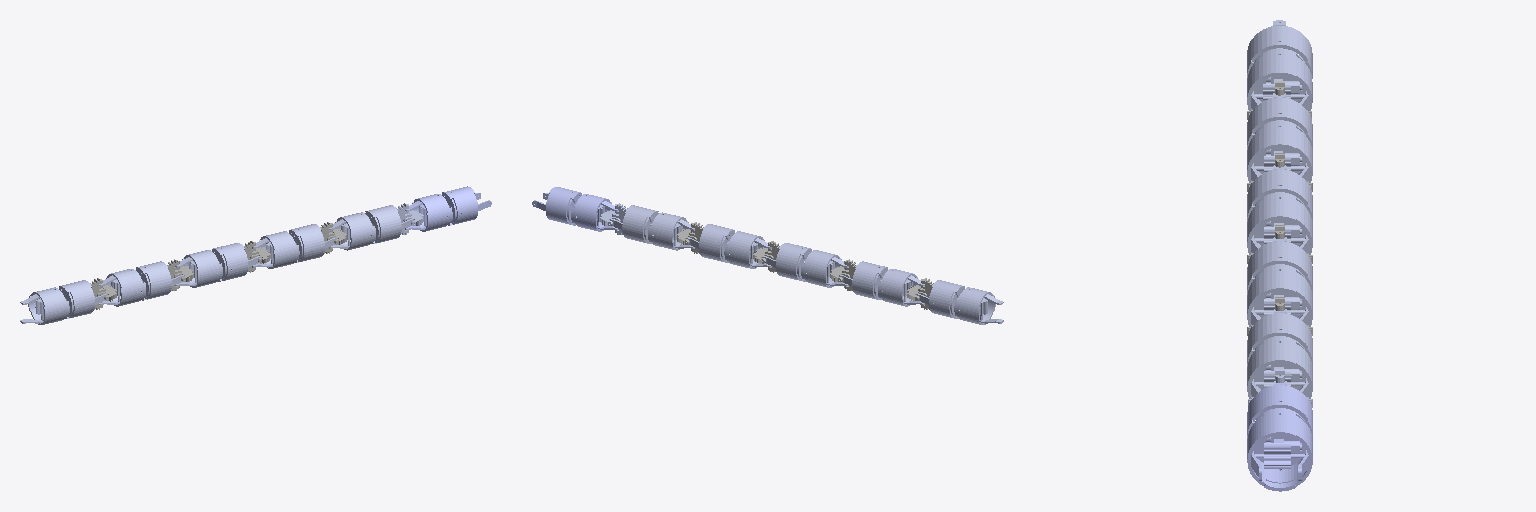
--- Facts derived from the render (not from the file) ---
Views: 3 orthographic renders of the robot side by side, from view 1: azimuth 30°, elevation 25°; view 2: azimuth 150°, elevation 25°; view 3: azimuth 270°, elevation 25°.
Robot: module11 — 15 links, 14 joints (10 revolute, 4 fixed); root link base_link; default pose: every joint at zero.
Links seen in each view (by area): view 1: LFiV_l, RFH_l, LTV_l, LFrV_l, LFV_l, LSV_l; view 2: LFiV_l, RFH_l, LTV_l, LFV_l, LSV_l, LFrV_l; view 3: RFH_l, LFiV_l, LSV_l, LFV_l, LTV_l, LFrV_l.
Boxes of the visible links, x1,y1,x2,y2 form: LFiV_l: [20, 280, 107, 324]; RFH_l: [405, 186, 491, 231]; LTV_l: [175, 243, 261, 287]; LFrV_l: [99, 261, 184, 306]; LFV_l: [329, 205, 413, 250]; LSV_l: [252, 224, 337, 268]; LFiV_l: [916, 280, 1003, 324]; RFH_l: [532, 187, 618, 231]; LTV_l: [762, 243, 848, 287]; LFV_l: [610, 205, 694, 250]; LSV_l: [686, 224, 771, 268]; LFrV_l: [839, 261, 924, 306]; RFH_l: [1247, 381, 1312, 491]; LFiV_l: [1247, 20, 1312, 110]; LSV_l: [1247, 237, 1312, 326]; LFV_l: [1247, 309, 1312, 398]; LTV_l: [1247, 165, 1312, 254]; LFrV_l: [1247, 93, 1312, 182].
Bounding box of the posed robot: 0.9455 × 0.0603 × 0.0602 m (x, y, z).
15 mesh visuals loaded from 15 distinct referenced files (15 binary STL).

The robot description file, URDF, robot "module11":
<robot
  name="module11">

  <gazebo>
  	<plugin name="gazebo_ros_control" filename="libgazebo_ros_control.so">
  	 <robotNamespace>/snakeBot</robotNamespace>
  	</plugin>
  </gazebo>
  <link
    name="base_link">
    <inertial>
      <origin
        xyz="-0.059005 0.0084946 -0.088929"
        rpy="0 0 0" />
      <mass
        value="0.021412" />
      <inertia
        ixx="4.3038E-06"
        ixy="-1.5348E-13"
        ixz="-1.5348E-13"
        iyy="6.4987E-06"
        iyz="-1.046E-13"
        izz="6.4987E-06" />
    </inertial>
    <visual>
      <origin
        xyz="0 0 0"
        rpy="0 0 0" />
      <geometry>
        <mesh
          filename="package://module11/meshes/base_link.STL" />
      </geometry>
      <material
        name="">
        <color
          rgba="0.79216 0.81961 0.93333 1" />
      </material>
    </visual>
    <collision>
      <origin
        xyz="0 0 0"
        rpy="0 0 0" />
      <geometry>
        <mesh
          filename="package://module11/meshes/base_link.STL" />
      </geometry>
      <surface>
        <friction>
          <ode>
            <mu>1.5</mu>
            <mu2>1.5</mu2>
          </ode>
        </friction>
      </surface>
    </collision>
  </link>
  <link
    name="RFH_l">
    <inertial>
      <origin
        xyz="0.077999 -0.023578 -0.00015631"
        rpy="0 0 0" />
      <mass
        value="0.30422" />
      <inertia
        ixx="5.6269E-05"
        ixy="-6.7565E-07"
        ixz="6.7565E-07"
        iyy="0.00013413"
        iyz="2.7424E-09"
        izz="0.00013413" />
    </inertial>
    <visual>
      <origin
        xyz="0 0 0"
        rpy="0 0 0" />
      <geometry>
        <mesh
          filename="package://module11/meshes/RFH_l.STL" />
      </geometry>
      <material
        name="">
        <color
          rgba="0.79216 0.81961 1.53333 1" />
      </material>
    </visual>
    <collision>
      <origin
        xyz="0 0 0"
        rpy="0 0 0" />
      <geometry>
        <mesh
          filename="package://module11/meshes/RFH_l.STL" />
      </geometry>
      <surface>
        <friction>
          <ode>
            <mu>1.5</mu>
            <mu2>1.5</mu2>
          </ode>
        </friction>
      </surface>
    </collision>
  </link>
  <joint
    name="RFH"
    type="revolute">
    <origin
      xyz="-0.059004 0.088929 -0.014977"
      rpy="-1.5708 -9.3675E-15 5.2254E-31" />
    <parent
      link="base_link" />
    <child
      link="RFH_l" />
    <axis
      xyz="0 -1 0" />
    <limit
      lower="-1.57"
      upper="1.57"
      effort="10"
      velocity="10" />
  </joint>
  <link
    name="LFV_l">
    <inertial>
      <origin
        xyz="-0.0779979722043294 -0.0236776079502012 0.000156335178566169"
        rpy="0 0 0" />
      <mass
        value="0.304221978677919" />
      <inertia
        ixx="5.62694786897269E-05"
        ixy="6.75651857950694E-07"
        ixz="6.7565185795328E-07"
        iyy="0.000134127952334618"
        iyz="-2.74236051781009E-09"
        izz="0.000134127952333357" />
    </inertial>
    <visual>
      <origin
        xyz="0 0 0"
        rpy="0 0 0" />
      <geometry>
        <mesh
          filename="package://module11/meshes/LFV_l.STL" />
      </geometry>
      <material
        name="">
        <color
          rgba="0.792156862745098 0.819607843137255 0.933333333333333 1" />
      </material>
    </visual>
    <collision>
      <origin
        xyz="0 0 0"
        rpy="0 0 0" />
      <geometry>
        <mesh
          filename="package://module11/meshes/LFV_l.STL" />
      </geometry>
      <surface>
        <friction>
          <ode>
            <mu>1.5</mu>
            <mu2>1.5</mu2>
          </ode>
        </friction>
      </surface>
    </collision>
  </link>
  <joint
    name="LFV"
    type="revolute">
    <origin
      xyz="-0.059007 0.1124 0.0084946"
      rpy="-9.6992E-16 -3.9732E-30 -4.0964E-15" />
    <parent
      link="base_link" />
    <child
      link="LFV_l" />
    <axis
      xyz="0 -1 0" />
    <limit
      lower="-1.57"
      upper="1.57"
      effort="10"
      velocity="10" />
  </joint>
  <link
    name="LSH_l">
    <inertial>
      <origin
        xyz="0.0114555925083545 -0.0234712962874002 -2.12958224526938E-08"
        rpy="0 0 0" />
      <mass
        value="0.0107059304937677" />
      <inertia
        ixx="2.15188774273762E-06"
        ixy="-1.56478029206162E-15"
        ixz="9.4691369143502E-14"
        iyy="2.85579568809868E-06"
        iyz="-5.22989237496864E-14"
        izz="8.32007948664844E-07" />
    </inertial>
    <visual>
      <origin
        xyz="0 0 0"
        rpy="0 0 0" />
      <geometry>
        <mesh
          filename="package://module11/meshes/LSH_l.STL" />
      </geometry>
      <material
        name="">
        <color
          rgba="0.752941176470588 0.752941176470588 0.752941176470588 1" />
      </material>
    </visual>
    <collision>
      <origin
        xyz="0 0 0"
        rpy="0 0 0" />
      <geometry>
        <mesh
          filename="package://module11/meshes/LSH_l.STL" />
      </geometry>
      <surface>
        <friction>
          <ode>
            <mu>1.5</mu>
            <mu2>1.5</mu2>
          </ode>
        </friction>
      </surface>
    </collision>
  </link>
  <joint
    name="LSH"
    type="revolute">
    <origin
      xyz="-0.156 -0.023521 -0.023521"
      rpy="-1.5708 7.2303E-15 4.0964E-15" />
    <parent
      link="LFV_l" />
    <child
      link="LSH_l" />
    <axis
      xyz="0 -1 0" />
    <limit
      lower="-1.57"
      upper="1.57"
      effort="10"
      velocity="10" />
  </joint>
  <link
    name="g34">
    <inertial>
      <origin
        xyz="0.00119765481791683 -0.0113948534860407 1.04778519194326E-10"
        rpy="0 0 0" />
      <mass
        value="0.0107059304937677" />
      <inertia
        ixx="8.46429365420271E-07"
        ixy="-1.3720990968646E-07"
        ixz="5.21759866212367E-14"
        iyy="2.1374663259822E-06"
        iyz="3.91053813205472E-15"
        izz="2.85579568809868E-06" />
    </inertial>
    <visual>
      <origin
        xyz="0 0 0"
        rpy="0 0 0" />
      <geometry>
        <mesh
          filename="package://module11/meshes/g34.STL" />
      </geometry>
      <material
        name="">
        <color
          rgba="0.752941176470588 0.752941176470588 0.752941176470588 1" />
      </material>
    </visual>
    <collision>
      <origin
        xyz="0 0 0"
        rpy="0 0 0" />
      <geometry>
        <mesh
          filename="package://module11/meshes/g34.STL" />
      </geometry>
      <surface>
        <friction>
          <ode>
            <mu>1.5</mu>
            <mu2>1.5</mu2>
          </ode>
        </friction>
      </surface>
    </collision>
  </link>
  <joint
    name="g34_j"
    type="fixed">
    <origin
      xyz="0 -0.023471 0"
      rpy="4.2329E-15 -6.6166E-16 -1.6755" />
    <parent
      link="LSH_l" />
    <child
      link="g34" />
    <axis
      xyz="0 0 0" />
  </joint>
  <link
    name="LSV_l">
    <inertial>
      <origin
        xyz="-0.0779985344590596 -0.0236776004065372 0.000156314754069888"
        rpy="0 0 0" />
      <mass
        value="0.304221978677919" />
      <inertia
        ixx="5.62694786903201E-05"
        ixy="6.75651857952483E-07"
        ixz="6.75651857953286E-07"
        iyy="0.000134127952334618"
        iyz="-2.74236051781309E-09"
        izz="0.00013412795233395" />
    </inertial>
    <visual>
      <origin
        xyz="0 0 0"
        rpy="0 0 0" />
      <geometry>
        <mesh
          filename="package://module11/meshes/LSV_l.STL" />
      </geometry>
      <material
        name="">
        <color
          rgba="0.792156862745098 0.819607843137255 0.933333333333333 1" />
      </material>
    </visual>
    <collision>
      <origin
        xyz="0 0 0"
        rpy="0 0 0" />
      <geometry>
        <mesh
          filename="package://module11/meshes/LSV_l.STL" />
      </geometry>
      <surface>
        <friction>
          <ode>
            <mu>1.5</mu>
            <mu2>1.5</mu2>
          </ode>
        </friction>
      </surface>
    </collision>
  </link>
  <joint
    name="LSV"
    type="revolute">
    <origin
      xyz="0 0 0.023471"
      rpy="1.5708 -1.3551E-15 1.6755" />
    <parent
      link="g34" />
    <child
      link="LSV_l" />
    <axis
      xyz="0 -1 0" />
    <limit
      lower="-1.57"
      upper="1.57"
      effort="10"
      velocity="10" />
  </joint>
  <link
    name="LTH_l">
    <inertial>
      <origin
        xyz="0.0114555925083546 -0.0234712962874001 -2.12958225359605E-08"
        rpy="0 0 0" />
      <mass
        value="0.0107059304937677" />
      <inertia
        ixx="2.15188774273763E-06"
        ixy="-1.5647834071692E-15"
        ixz="9.46913654395446E-14"
        iyy="2.85579568809869E-06"
        iyz="-5.22989226463604E-14"
        izz="8.32007948664844E-07" />
    </inertial>
    <visual>
      <origin
        xyz="0 0 0"
        rpy="0 0 0" />
      <geometry>
        <mesh
          filename="package://module11/meshes/LTH_l.STL" />
      </geometry>
      <material
        name="">
        <color
          rgba="0.752941176470588 0.752941176470588 0.752941176470588 1" />
      </material>
    </visual>
    <collision>
      <origin
        xyz="0 0 0"
        rpy="0 0 0" />
      <geometry>
        <mesh
          filename="package://module11/meshes/LTH_l.STL" />
      </geometry>
      <surface>
        <friction>
          <ode>
            <mu>1.5</mu>
            <mu2>1.5</mu2>
          </ode>
        </friction>
      </surface>
    </collision>
  </link>
  <joint
    name="LTH"
    type="revolute">
    <origin
      xyz="-0.156 -0.023521 -0.023521"
      rpy="-1.5708 0 -5.4956E-15" />
    <parent
      link="LSV_l" />
    <child
      link="LTH_l" />
    <axis
      xyz="0 -1 0" />
    <limit
      lower="-1.57"
      upper="1.57"
      effort="10"
      velocity="10" />
  </joint>
  <link
    name="g56">
    <inertial>
      <origin
        xyz="0.00119765481791682 -0.0113948534860406 1.04778533072114E-10"
        rpy="0 0 0" />
      <mass
        value="0.0107059304937677" />
      <inertia
        ixx="8.46429365420271E-07"
        ixy="-1.37209909686459E-07"
        ixz="5.21759862676282E-14"
        iyy="2.1374663259822E-06"
        iyz="3.91053819712919E-15"
        izz="2.85579568809868E-06" />
    </inertial>
    <visual>
      <origin
        xyz="0 0 0"
        rpy="0 0 0" />
      <geometry>
        <mesh
          filename="package://module11/meshes/g56.STL" />
      </geometry>
      <material
        name="">
        <color
          rgba="0.752941176470588 0.752941176470588 0.752941176470588 1" />
      </material>
    </visual>
    <collision>
      <origin
        xyz="0 0 0"
        rpy="0 0 0" />
      <geometry>
        <mesh
          filename="package://module11/meshes/g56.STL" />
      </geometry>
      <surface>
        <friction>
          <ode>
            <mu>1.5</mu>
            <mu2>1.5</mu2>
          </ode>
        </friction>
      </surface>
    </collision>
  </link>
  <joint
    name="g56_j"
    type="fixed">
    <origin
      xyz="0 -0.023471 0"
      rpy="4.1633E-15 2.3173E-30 -1.6755" />
    <parent
      link="LTH_l" />
    <child
      link="g56" />
    <axis
      xyz="0 0 0" />
  </joint>
  <link
    name="LTV_l">
    <inertial>
      <origin
        xyz="-0.0779985344590596 -0.0236776004065368 0.000156314754069535"
        rpy="0 0 0" />
      <mass
        value="0.304221978677919" />
      <inertia
        ixx="5.62694786890914E-05"
        ixy="6.75651857951529E-07"
        ixz="6.75651857952834E-07"
        iyy="0.000134127952334057"
        iyz="-2.74236051781147E-09"
        izz="0.000134127952333282" />
    </inertial>
    <visual>
      <origin
        xyz="0 0 0"
        rpy="0 0 0" />
      <geometry>
        <mesh
          filename="package://module11/meshes/LTV_l.STL" />
      </geometry>
      <material
        name="">
        <color
          rgba="0.792156862745098 0.819607843137255 0.933333333333333 1" />
      </material>
    </visual>
    <collision>
      <origin
        xyz="0 0 0"
        rpy="0 0 0" />
      <geometry>
        <mesh
          filename="package://module11/meshes/LTV_l.STL" />
      </geometry>
      <surface>
        <friction>
          <ode>
            <mu>1.5</mu>
            <mu2>1.5</mu2>
          </ode>
        </friction>
      </surface>
    </collision>
  </link>
  <joint
    name="LTV"
    type="revolute">
    <origin
      xyz="0 0 0.023471"
      rpy="1.5708 -1.4106E-15 1.6755" />
    <parent
      link="g56" />
    <child
      link="LTV_l" />
    <axis
      xyz="0 -1 0" />
    <limit
      lower="-1.57"
      upper="1.57"
      effort="10"
      velocity="10" />
  </joint>
  <link
    name="LFrH_l">
    <inertial>
      <origin
        xyz="0.0114555925083547 -0.0234712962874001 -2.12958225498383E-08"
        rpy="0 0 0" />
      <mass
        value="0.0107059304937677" />
      <inertia
        ixx="2.15188774273763E-06"
        ixy="-1.56478410712483E-15"
        ixz="9.46913632118764E-14"
        iyy="2.85579568809869E-06"
        iyz="-5.22989209114182E-14"
        izz="8.32007948664845E-07" />
    </inertial>
    <visual>
      <origin
        xyz="0 0 0"
        rpy="0 0 0" />
      <geometry>
        <mesh
          filename="package://module11/meshes/LFrH_l.STL" />
      </geometry>
      <material
        name="">
        <color
          rgba="0.752941176470588 0.752941176470588 0.752941176470588 1" />
      </material>
    </visual>
    <collision>
      <origin
        xyz="0 0 0"
        rpy="0 0 0" />
      <geometry>
        <mesh
          filename="package://module11/meshes/LFrH_l.STL" />
      </geometry>
      <surface>
        <friction>
          <ode>
            <mu>1.5</mu>
            <mu2>1.5</mu2>
          </ode>
        </friction>
      </surface>
    </collision>
  </link>
  <joint
    name="LFrH"
    type="revolute">
    <origin
      xyz="-0.156 -0.023521 -0.023521"
      rpy="-1.5708 0 -5.5511E-15" />
    <parent
      link="LTV_l" />
    <child
      link="LFrH_l" />
    <axis
      xyz="0 -1 0" />
    <limit
      lower="-1.57"
      upper="1.57"
      effort="10"
      velocity="10" />
  </joint>
  <link
    name="g78">
    <inertial>
      <origin
        xyz="0.00119765481791685 -0.0113948534860407 1.04778533072114E-10"
        rpy="0 0 0" />
      <mass
        value="0.0107059304937677" />
      <inertia
        ixx="8.46429365420271E-07"
        ixy="-1.37209909686457E-07"
        ixz="5.2175986324766E-14"
        iyy="2.13746632598221E-06"
        iyz="3.91053802028583E-15"
        izz="2.85579568809869E-06" />
    </inertial>
    <visual>
      <origin
        xyz="0 0 0"
        rpy="0 0 0" />
      <geometry>
        <mesh
          filename="package://module11/meshes/g78.STL" />
      </geometry>
      <material
        name="">
        <color
          rgba="0.752941176470588 0.752941176470588 0.752941176470588 1" />
      </material>
    </visual>
    <collision>
      <origin
        xyz="0 0 0"
        rpy="0 0 0" />
      <geometry>
        <mesh
          filename="package://module11/meshes/g78.STL" />
      </geometry>
    </collision>
  </link>
  <joint
    name="g78_j"
    type="fixed">
    <origin
      xyz="0 -0.023471 0"
      rpy="5.5511E-15 2.1398E-29 -1.6755" />
    <parent
      link="LFrH_l" />
    <child
      link="g78" />
    <axis
      xyz="0 0 0" />
  </joint>
  <link
    name="LFrV_l">
    <inertial>
      <origin
        xyz="-0.0779985344590599 -0.0236776004065368 0.000156314754069718"
        rpy="0 0 0" />
      <mass
        value="0.304221978677919" />
      <inertia
        ixx="5.62694786891652E-05"
        ixy="6.75651857951406E-07"
        ixz="6.75651857952917E-07"
        iyy="0.000134127952334056"
        iyz="-2.74236051783236E-09"
        izz="0.000134127952333357" />
    </inertial>
    <visual>
      <origin
        xyz="0 0 0"
        rpy="0 0 0" />
      <geometry>
        <mesh
          filename="package://module11/meshes/LFrV_l.STL" />
      </geometry>
      <material
        name="">
        <color
          rgba="0.792156862745098 0.819607843137255 0.933333333333333 1" />
      </material>
    </visual>
    <collision>
      <origin
        xyz="0 0 0"
        rpy="0 0 0" />
      <geometry>
        <mesh
          filename="package://module11/meshes/LFrV_l.STL" />
      </geometry>
    </collision>
  </link>
  <joint
    name="LFrV"
    type="revolute">
    <origin
      xyz="0 0 0.023471"
      rpy="1.5708 2.5101E-17 1.6755" />
    <parent
      link="g78" />
    <child
      link="LFrV_l" />
    <axis
      xyz="0 -1 0" />
    <limit
      lower="-1.57"
      upper="1.57"
      effort="10"
      velocity="10" />
  </joint>
  <link
    name="LFiH_l">
    <inertial>
      <origin
        xyz="0.0114555925083546 -0.0234712962874001 -2.12958224804494E-08"
        rpy="0 0 0" />
      <mass
        value="0.0107059304937677" />
      <inertia
        ixx="2.15188774273765E-06"
        ixy="-1.56478330056279E-15"
        ixz="9.46913737340036E-14"
        iyy="2.85579568809871E-06"
        iyz="-5.2298921720452E-14"
        izz="8.32007948664847E-07" />
    </inertial>
    <visual>
      <origin
        xyz="0 0 0"
        rpy="0 0 0" />
      <geometry>
        <mesh
          filename="package://module11/meshes/LFiH_l.STL" />
      </geometry>
      <material
        name="">
        <color
          rgba="0.752941176470588 0.752941176470588 0.752941176470588 1" />
      </material>
    </visual>
    <collision>
      <origin
        xyz="0 0 0"
        rpy="0 0 0" />
      <geometry>
        <mesh
          filename="package://module11/meshes/LFiH_l.STL" />
      </geometry>
    </collision>
  </link>
  <joint
    name="LFiH"
    type="revolute">
    <origin
      xyz="-0.156 -0.023521 -0.023521"
      rpy="-1.5708 0 -5.4956E-15" />
    <parent
      link="LFrV_l" />
    <child
      link="LFiH_l" />
    <axis
      xyz="0 -1 0" />
    <limit
      lower="-1.57"
      upper="1.57"
      effort="10"
      velocity="10" />
  </joint>
  <link
    name="g910">
    <inertial>
      <origin
        xyz="0.00119765481791681 -0.0113948534860406 1.04778533072114E-10"
        rpy="0 0 0" />
      <mass
        value="0.0107059304937677" />
      <inertia
        ixx="8.46429365420273E-07"
        ixy="-1.37209909686459E-07"
        ixz="5.2175987246576E-14"
        iyy="2.13746632598221E-06"
        iyz="3.91053752498928E-15"
        izz="2.8557956880987E-06" />
    </inertial>
    <visual>
      <origin
        xyz="0 0 0"
        rpy="0 0 0" />
      <geometry>
        <mesh
          filename="package://module11/meshes/g910.STL" />
      </geometry>
      <material
        name="">
        <color
          rgba="0.752941176470588 0.752941176470588 0.752941176470588 1" />
      </material>
    </visual>
    <collision>
      <origin
        xyz="0 0 0"
        rpy="0 0 0" />
      <geometry>
        <mesh
          filename="package://module11/meshes/g910.STL" />
      </geometry>
    </collision>
  </link>
  <joint
    name="g910_j"
    type="fixed">
    <origin
      xyz="0 -0.023471 0"
      rpy="6.9389E-15 -3.5696E-29 -1.6755" />
    <parent
      link="LFiH_l" />
    <child
      link="g910" />
    <axis
      xyz="0 0 0" />
  </joint>
  <link
    name="LFiV_l">
    <inertial>
      <origin
        xyz="-0.0779985344590592 -0.0236776004065341 0.000156314754065971"
        rpy="0 0 0" />
      <mass
        value="0.304221978677919" />
      <inertia
        ixx="5.62694786896529E-05"
        ixy="6.75651857951793E-07"
        ixz="6.75651857953292E-07"
        iyy="0.000134127952334618"
        iyz="-2.74236051783857E-09"
        izz="0.000134127952333283" />
    </inertial>
    <visual>
      <origin
        xyz="0 0 0"
        rpy="0 0 0" />
      <geometry>
        <mesh
          filename="package://module11/meshes/LFiV_l.STL" />
      </geometry>
      <material
        name="">
        <color
          rgba="0.792156862745098 0.819607843137255 0.933333333333333 1" />
      </material>
    </visual>
    <collision>
      <origin
        xyz="0 0 0"
        rpy="0 0 0" />
      <geometry>
        <mesh
          filename="package://module11/meshes/LFiV_l.STL" />
      </geometry>
    </collision>
  </link>
  <joint
    name="LFiV"
    type="revolute">
    <origin
      xyz="0 0 0.023471"
      rpy="1.5708 -2.0919E-15 1.6755" />
    <parent
      link="g910" />
    <child
      link="LFiV_l" />
    <axis
      xyz="0 -1 0" />
    <limit
      lower="-1.57"
      upper="1.57"
      effort="10"
      velocity="10" />
  </joint>
   <transmission name="RFH_trans">
      <type>transmission_interface/SimpleTransmission</type>
      <joint name="RFH">
        <hardwareInterface>hardware_interface/EffortJointInterface</hardwareInterface>
      </joint>
      <actuator name="RFHMotor">
        <hardwareInterface>hardware_interface/EffortJointInterface</hardwareInterface>
        <mechanicalReduction>1</mechanicalReduction>
      </actuator>
    </transmission>
    <transmission name="LFVtrans">
      <type>transmission_interface/SimpleTransmission</type>
      <joint name="LFV">
        <hardwareInterface>hardware_interface/EffortJointInterface</hardwareInterface>
      </joint>
      <actuator name="LFVMotor">
        <hardwareInterface>hardware_interface/EffortJointInterface</hardwareInterface>
        <mechanicalReduction>1</mechanicalReduction>
      </actuator>
    </transmission>
    <transmission name="LSHtrans">
      <type>transmission_interface/SimpleTransmission</type>
      <joint name="LSH">
        <hardwareInterface>hardware_interface/EffortJointInterface</hardwareInterface>
      </joint>
      <actuator name="LSHMotor">
        <hardwareInterface>hardware_interface/EffortJointInterface</hardwareInterface>
        <mechanicalReduction>1</mechanicalReduction>
      </actuator>
    </transmission>
    <transmission name="LSVtrans">
      <type>transmission_interface/SimpleTransmission</type>
      <joint name="LSV">
        <hardwareInterface>hardware_interface/EffortJointInterface</hardwareInterface>
      </joint>
      <actuator name="LSVMotor">
        <hardwareInterface>hardware_interface/EffortJointInterface</hardwareInterface>
        <mechanicalReduction>1</mechanicalReduction>
      </actuator>
    </transmission>
   <transmission name="RTHtrans">
      <type>transmission_interface/SimpleTransmission</type>
      <joint name="LTH">
        <hardwareInterface>hardware_interface/EffortJointInterface</hardwareInterface>
      </joint>
      <actuator name="LTHMotor">
        <hardwareInterface>hardware_interface/EffortJointInterface</hardwareInterface>
        <mechanicalReduction>1</mechanicalReduction>
      </actuator>
    </transmission>
    <transmission name="LTVtrans">
      <type>transmission_interface/SimpleTransmission</type>
      <joint name="LTV">
        <hardwareInterface>hardware_interface/EffortJointInterface</hardwareInterface>
      </joint>
      <actuator name="LTVMotor">
        <hardwareInterface>hardware_interface/EffortJointInterface</hardwareInterface>
        <mechanicalReduction>1</mechanicalReduction>
      </actuator>
    </transmission><transmission name="LFrHtrans">
      <type>transmission_interface/SimpleTransmission</type>
      <joint name="LFrH">
        <hardwareInterface>hardware_interface/EffortJointInterface</hardwareInterface>
      </joint>
      <actuator name="LFrHMotor">
        <hardwareInterface>hardware_interface/EffortJointInterface</hardwareInterface>
        <mechanicalReduction>1</mechanicalReduction>
      </actuator>
    </transmission>
    <transmission name="LFrVtrans">
      <type>transmission_interface/SimpleTransmission</type>
      <joint name="LFrV">
        <hardwareInterface>hardware_interface/EffortJointInterface</hardwareInterface>
      </joint>
      <actuator name="LFrVMotor">
        <hardwareInterface>hardware_interface/EffortJointInterface</hardwareInterface>
        <mechanicalReduction>1</mechanicalReduction>
      </actuator>
    </transmission>
    <transmission name="LFiHtrans">
      <type>transmission_interface/SimpleTransmission</type>
      <joint name="LFiH">
        <hardwareInterface>hardware_interface/EffortJointInterface</hardwareInterface>
      </joint>
      <actuator name="LFiHMotor">
        <hardwareInterface>hardware_interface/EffortJointInterface</hardwareInterface>
        <mechanicalReduction>1</mechanicalReduction>
      </actuator>
</transmission>
 <transmission name="LFiVtrans">
      <type>transmission_interface/SimpleTransmission</type>
      <joint name="LFiV">
        <hardwareInterface>hardware_interface/EffortJointInterface</hardwareInterface>
      </joint>
      <actuator name="LFiVMotor">
        <hardwareInterface>hardware_interface/EffortJointInterface</hardwareInterface>
        <mechanicalReduction>1</mechanicalReduction>
      </actuator>
    </transmission>
    
</robot>
